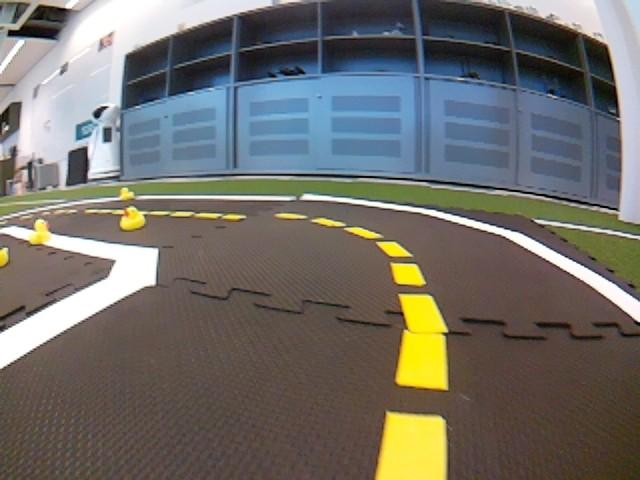Duckies: (119, 206, 146, 231), (28, 219, 52, 245), (0, 247, 9, 268), (120, 188, 134, 200)
